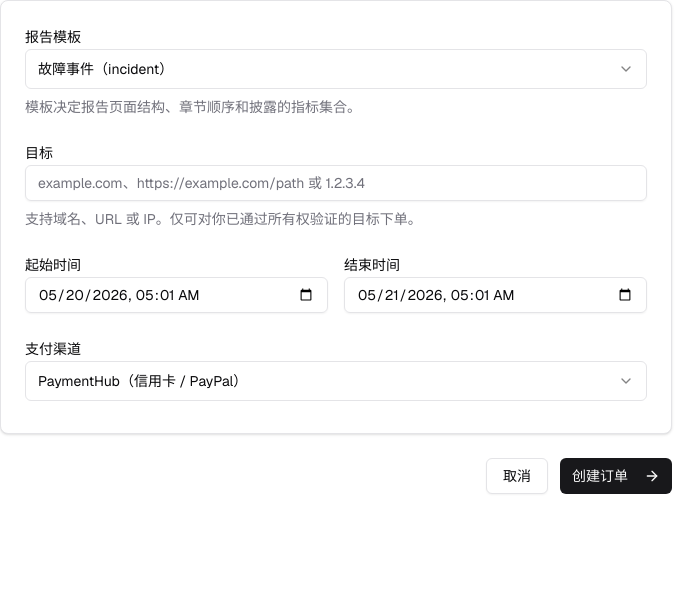
it: NewVerdictOrderClient › surfaces backend error in an alert
The width and height of the screenshot is (689, 599).
Step 1. Type "example.com" into the field with test id "target-input" → (336, 183), box [25,165,647,201]
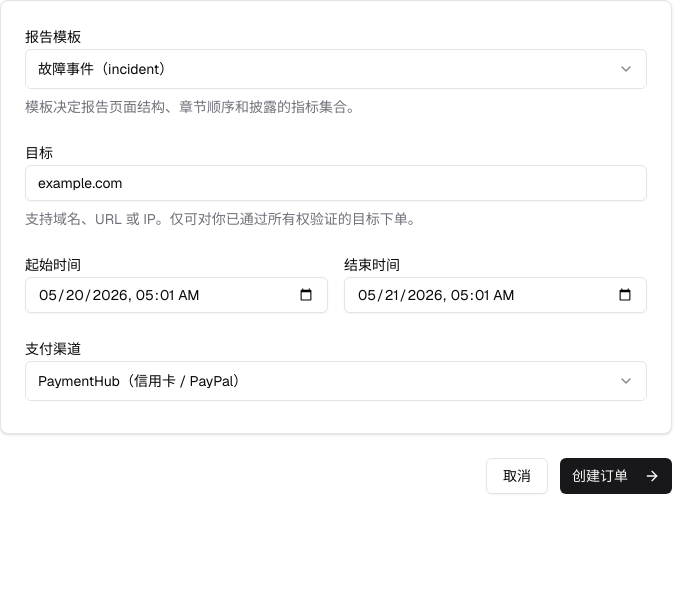
Step 2. Click the button with test id "submit-btn" → (616, 476), box [560,458,672,494]
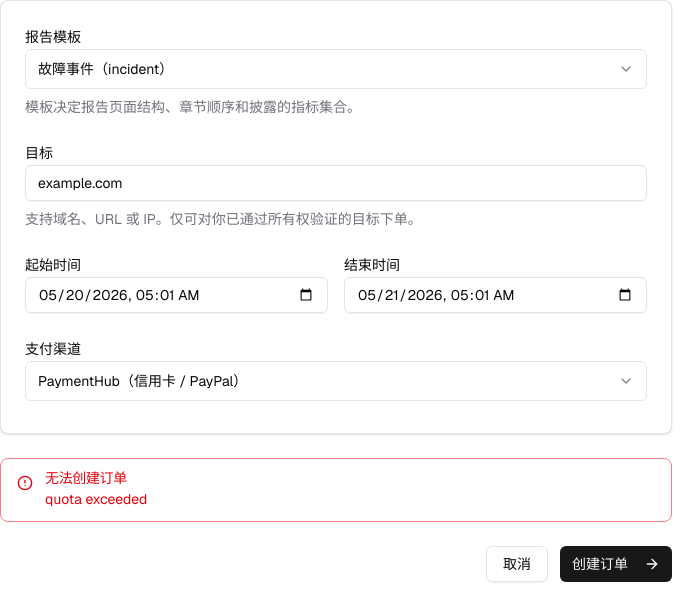
Expected: the message "无法创建订单 quota exceeded" is shown, [0,458,672,522]
Expected: the text "quota exceeded" is shown, [45,490,147,508]
